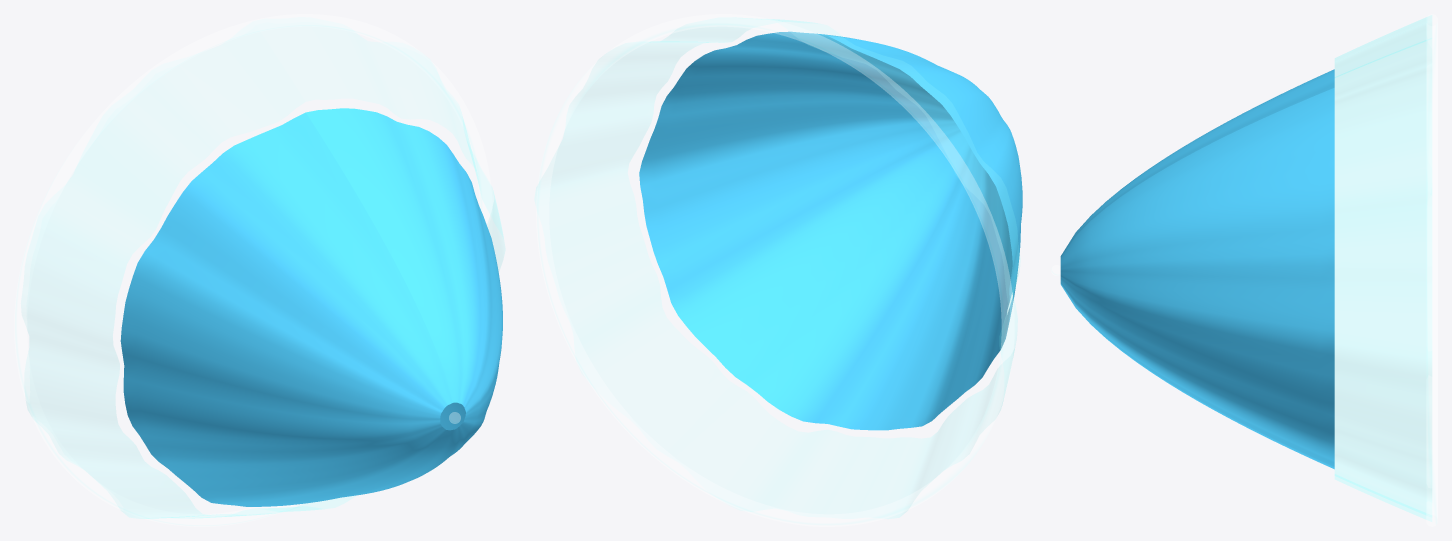
The model's file is shockwave_mat.glb.
The picture shows the model from 3 angles, left to right: view 1: azimuth 30°, elevation 25°; view 2: azimuth 150°, elevation 25°; view 3: azimuth 270°, elevation 25°; orthographic projection. The views are drawn at different scales.
Visible parts, largest first — view 1: blast_trail, front_band, front_lip; view 2: blast_trail, front_band, front_lip; view 3: blast_trail, front_band, front_lip.
Boxes of the visible parts, <box> form: blast_trail: <box>120,108,502,506</box>; front_band: <box>27,22,504,518</box>; front_lip: <box>14,14,492,526</box>; blast_trail: <box>639,31,1022,430</box>; front_band: <box>535,18,1019,518</box>; front_lip: <box>536,14,1014,526</box>; blast_trail: <box>1060,69,1334,469</box>; front_band: <box>1334,15,1431,521</box>; front_lip: <box>1426,14,1437,526</box>.
Size of the model in its own units: 2.06 by 2.05 by 1.54.
